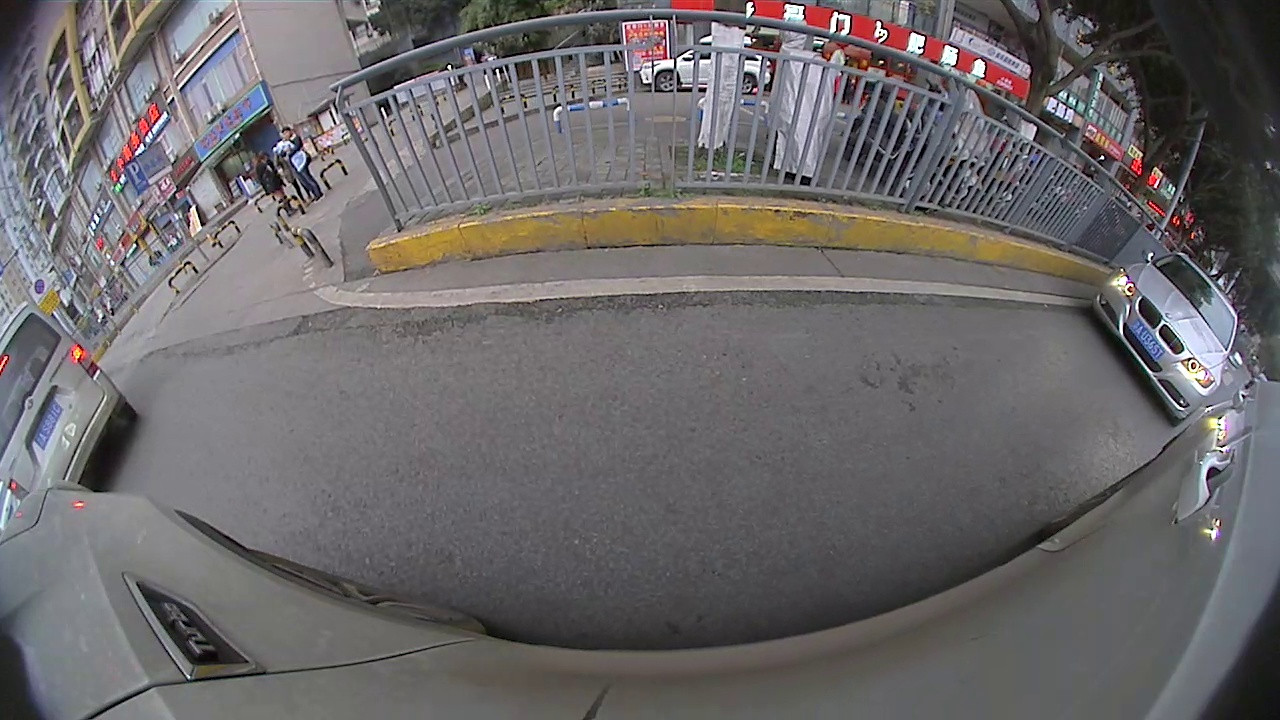car: (784, 81, 1082, 312), (114, 154, 312, 294)
front: (177, 237, 211, 280), (1032, 274, 1071, 311), (418, 116, 447, 146)
rear: (903, 219, 963, 281), (543, 102, 572, 133), (126, 262, 151, 293)
